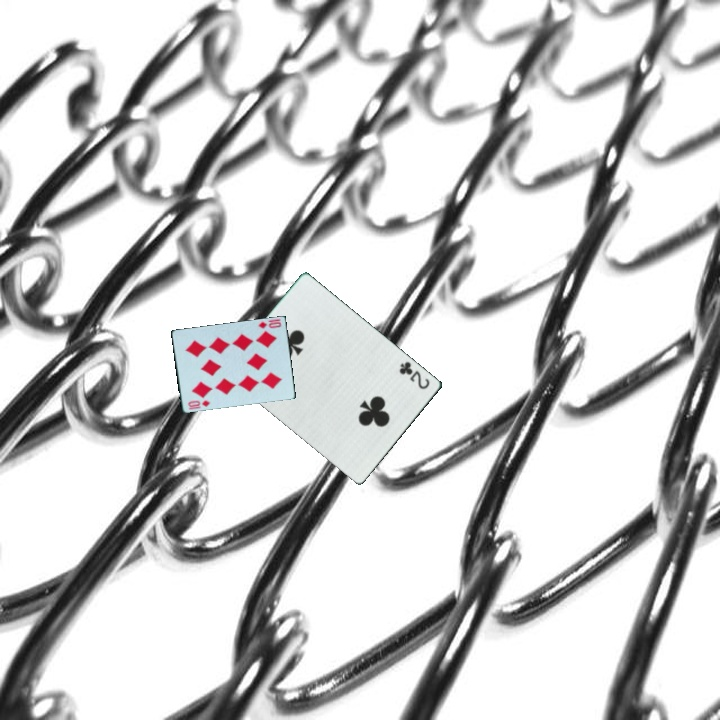10d: (255, 316, 284, 332), (185, 397, 213, 412)
2c: (396, 358, 433, 392)
